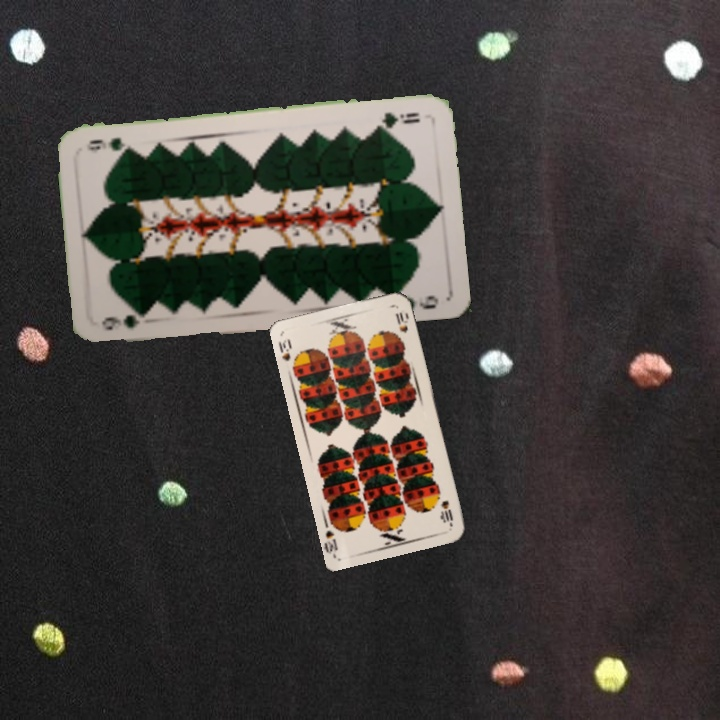G9: (98, 310, 151, 333), (372, 108, 422, 130)
S10: (437, 496, 456, 528), (274, 335, 294, 363)
